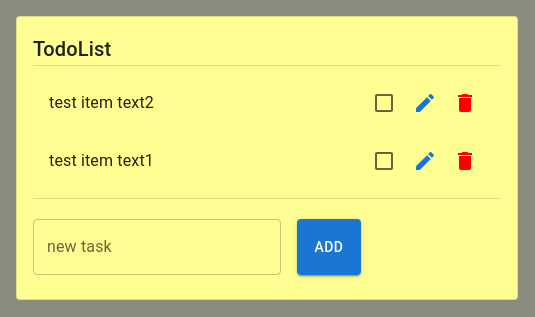
List › Delete button
Click the button named "delete" in the row of "test item text2" at (465, 103), box [445,83,485,123]
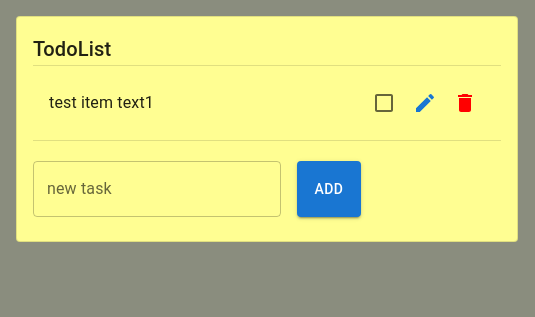
Click the button named "delete" at (465, 103), box [445,83,485,123]
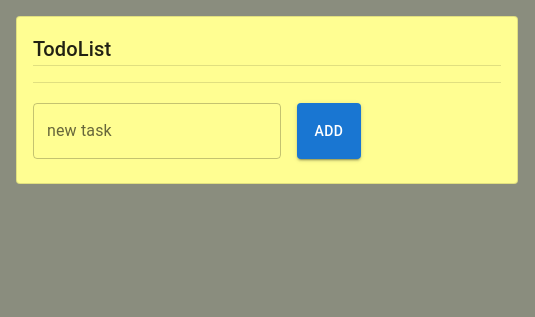
expect the button labelled "delete" is gone: met
